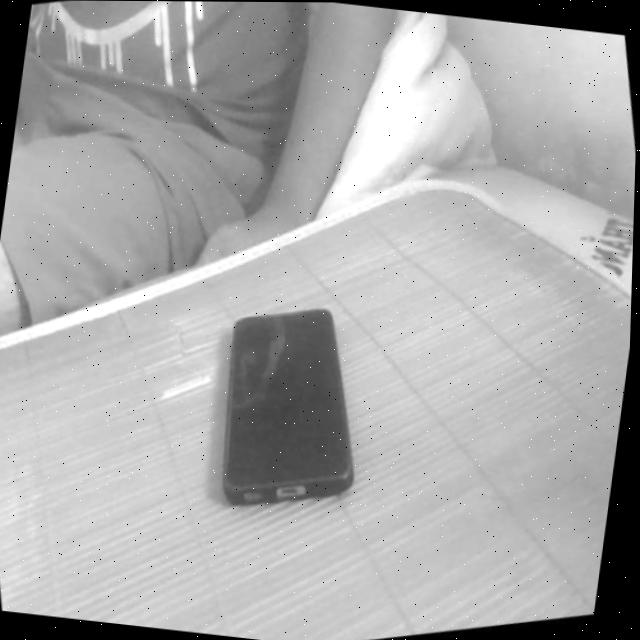phone: (159, 262, 407, 552)
